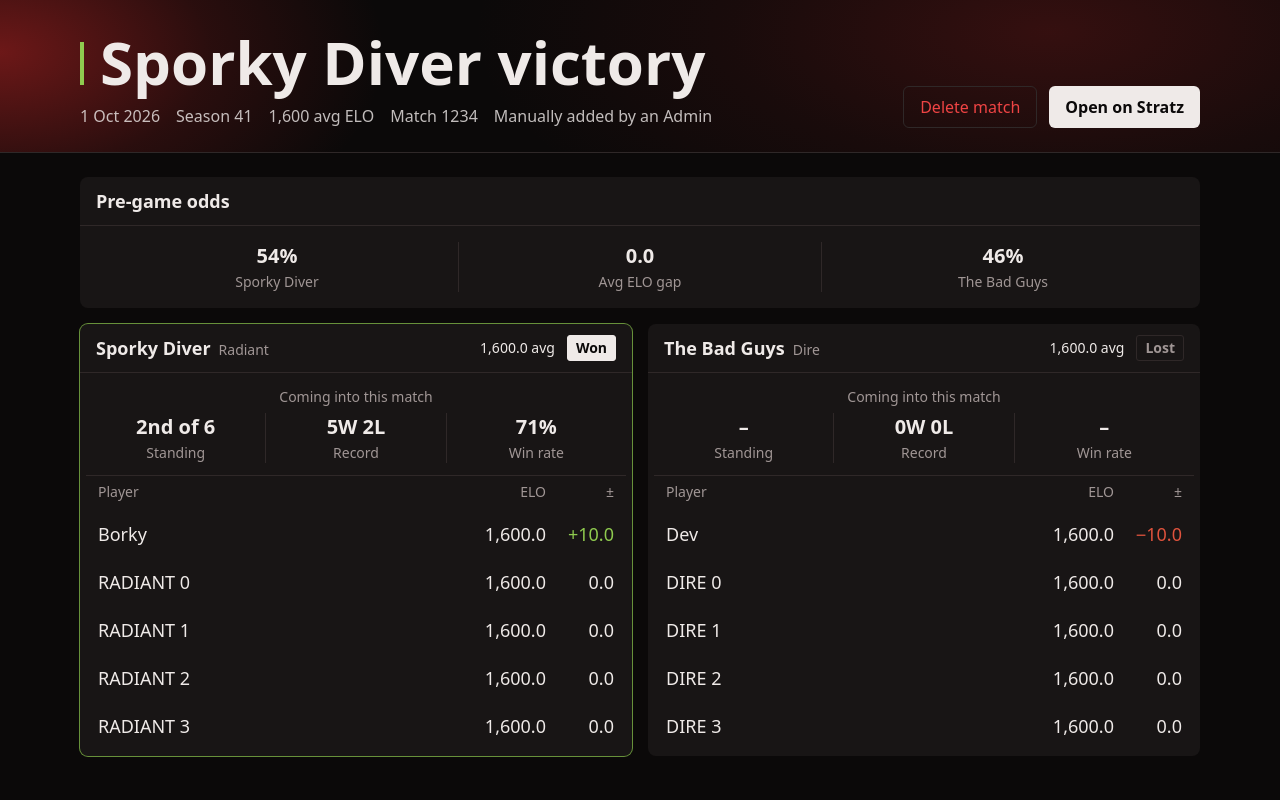
Test: says a deleted MANUAL match goes to the bin
Step 1. Click the button "Delete match" → (970, 107), box [903, 86, 1037, 128]
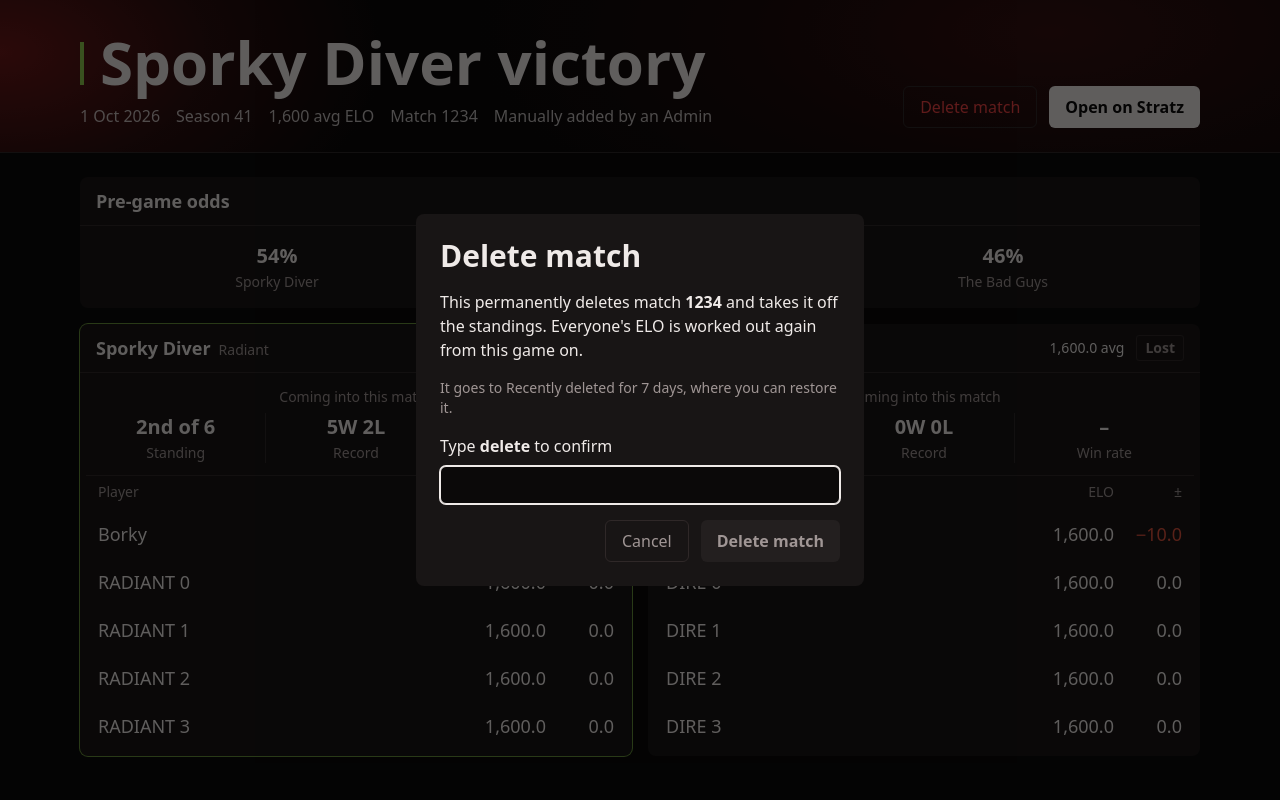
Expected: the text "It goes to Recently deleted for 7 days, where you can restore it." is shown, [440, 378, 840, 418]
